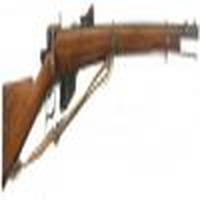gun: (4, 24, 200, 155)
